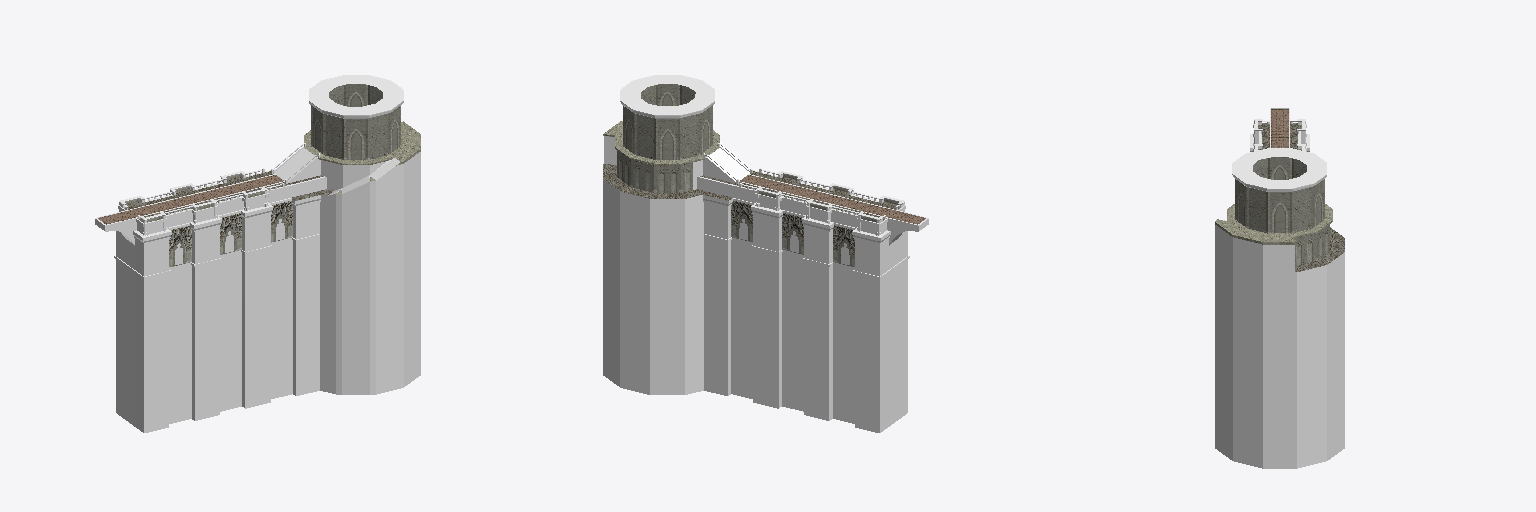
3 views of the same model, side by side, from view 1: azimuth 30°, elevation 25°; view 2: azimuth 150°, elevation 25°; view 3: azimuth 270°, elevation 25° (orthographic).
Visible parts, largest first — view 1: mesh0, mesh10, mesh7, mesh3, mesh5, mesh2, mesh1, mesh9; view 2: mesh0, mesh10, mesh11, mesh7, mesh2, mesh3, mesh5, mesh9, mesh1; view 3: mesh0, mesh10, mesh5, mesh2, mesh11, mesh3.
Part boxes in pixels (left/top/right/bottom): mesh0: left=95, top=75, right=420, bottom=432; mesh10: left=311, top=84, right=400, bottom=159; mesh7: left=169, top=201, right=292, bottom=266; mesh3: left=98, top=175, right=283, bottom=224; mesh5: left=304, top=121, right=420, bottom=193; mesh2: left=124, top=171, right=332, bottom=220; mesh1: left=274, top=148, right=399, bottom=195; mesh9: left=119, top=171, right=267, bottom=223; mesh0: left=603, top=75, right=928, bottom=432; mesh10: left=623, top=84, right=712, bottom=159; mesh11: left=617, top=150, right=692, bottom=192; mesh7: left=731, top=201, right=854, bottom=266; mesh2: left=603, top=164, right=899, bottom=220; mesh3: left=740, top=175, right=925, bottom=224; mesh5: left=603, top=121, right=719, bottom=164; mesh9: left=756, top=171, right=904, bottom=223; mesh1: left=707, top=142, right=749, bottom=180; mesh0: left=1215, top=122, right=1344, bottom=468; mesh10: left=1235, top=157, right=1324, bottom=233; mesh5: left=1215, top=204, right=1332, bottom=244; mesh2: left=1258, top=123, right=1344, bottom=271; mesh11: left=1295, top=224, right=1329, bottom=265; mesh3: left=1271, top=109, right=1288, bottom=147.
Bounding box in the file's own units: 86.27 × 72.01 × 30.91.
12 materials, 7 textured.